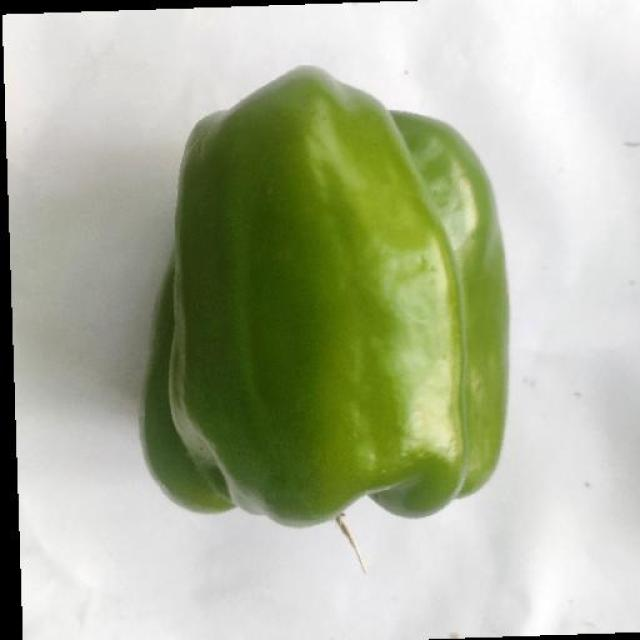Fresh_Capsicum: (152, 72, 499, 558)
